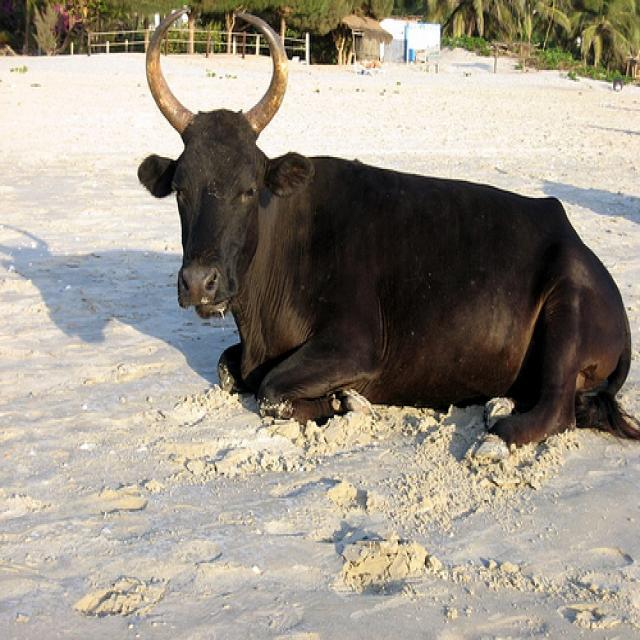cow: (136, 3, 639, 444)
